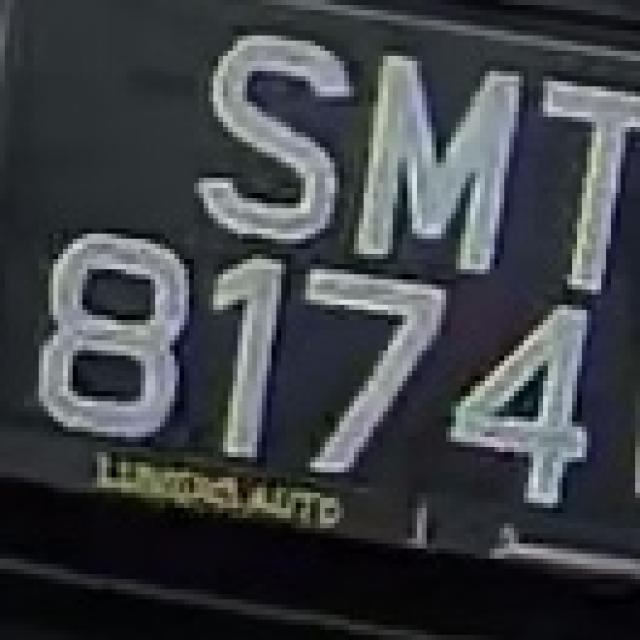1: (194, 228, 301, 472)
4: (451, 280, 616, 524)
7: (305, 238, 451, 492)
8: (29, 208, 194, 472)
M: (359, 41, 528, 269)
S: (189, 15, 349, 239)
T: (528, 56, 640, 294)
